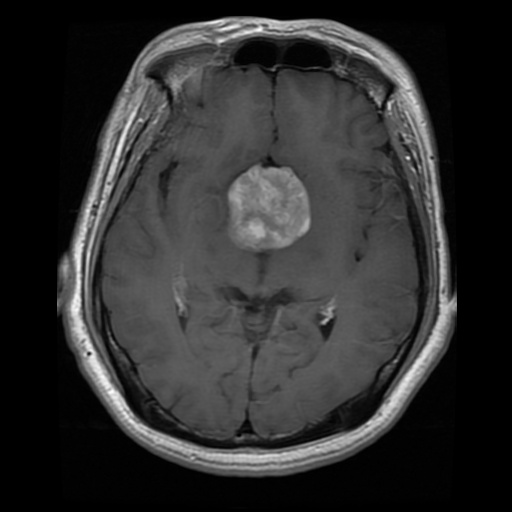pituitary: (227, 161, 311, 249)
